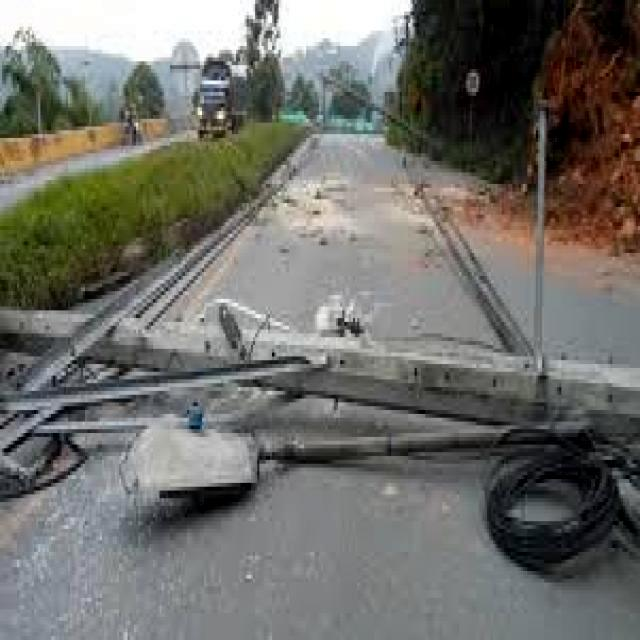Broken Pole: (1, 108, 639, 573)
